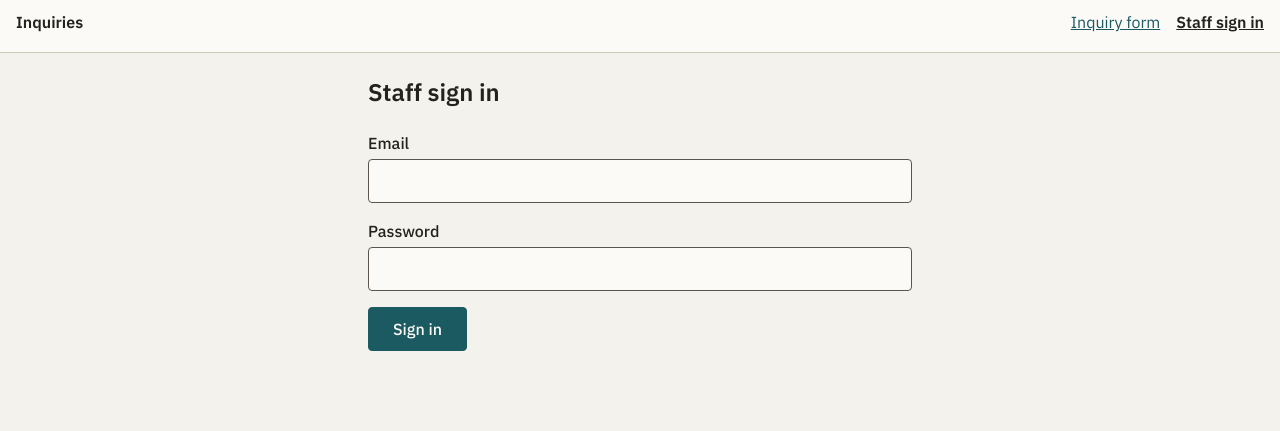
Test: login › stores the token and opens the dashboard on success
Step 1. Type "admin@example.com" into the field labelled "Email" → coordinates (640, 181), box [368,159,912,203]
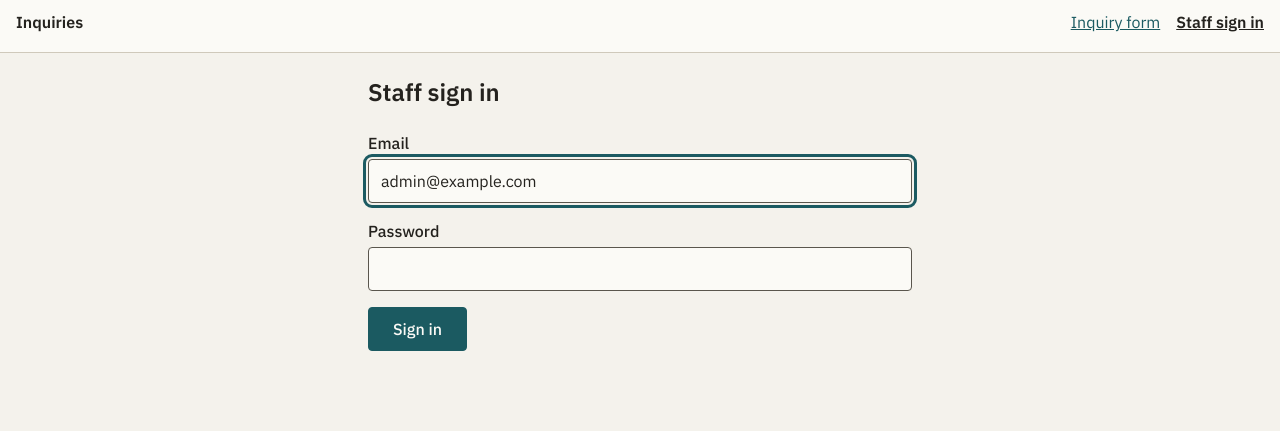
Step 2. Type "right-password" into the password field labelled "Password" → coordinates (640, 269), box [368,247,912,291]
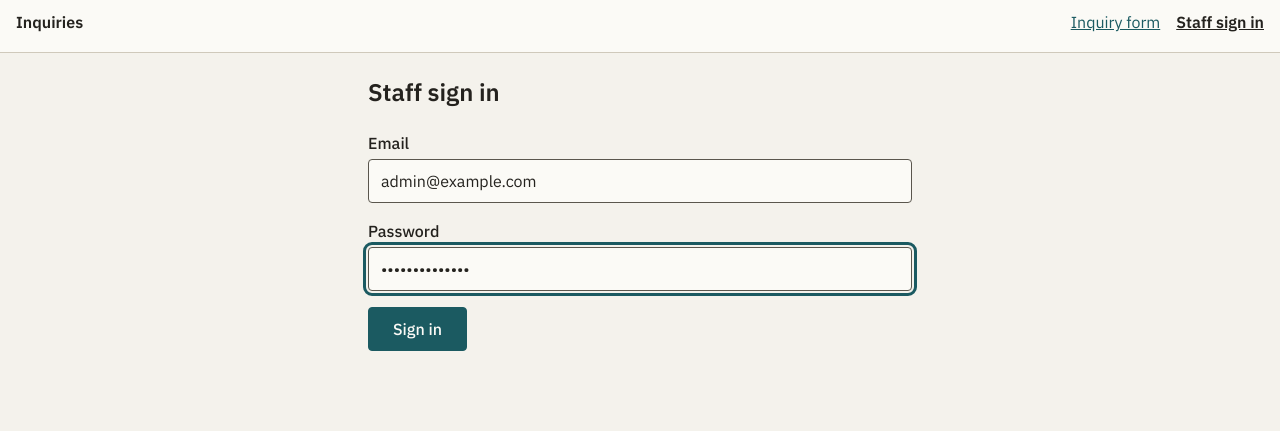
Step 3. Click the button "Sign in" → coordinates (418, 329), box [368,307,467,351]
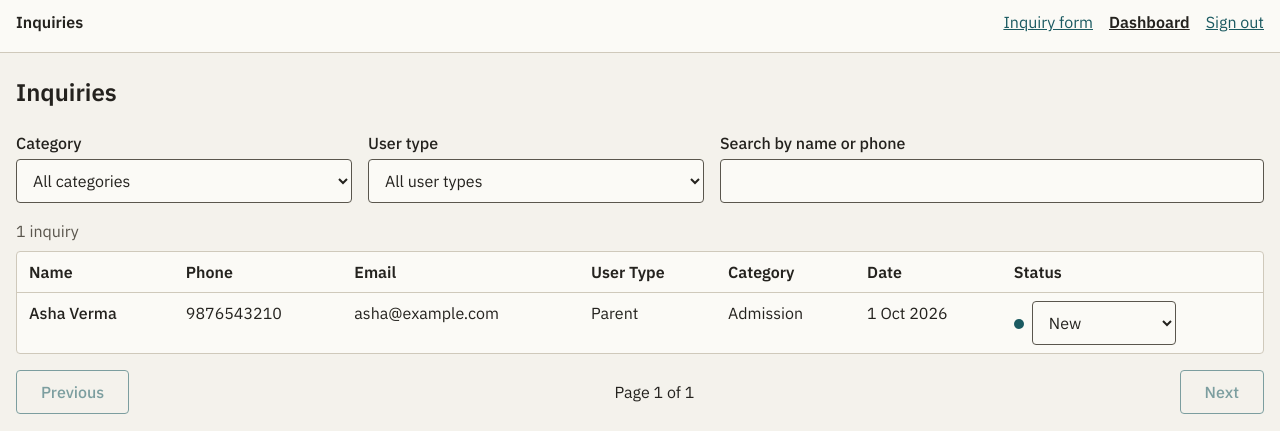
Now the table is shown, box [17,252,1263,353]
